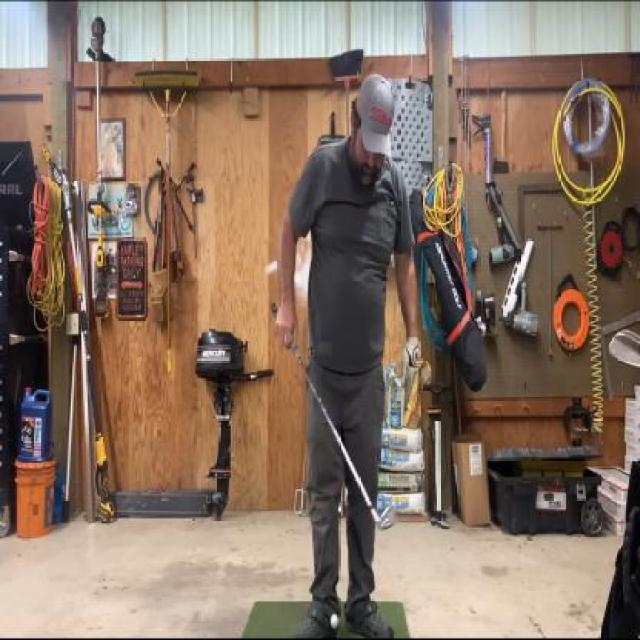club head: (368, 501, 400, 532)
